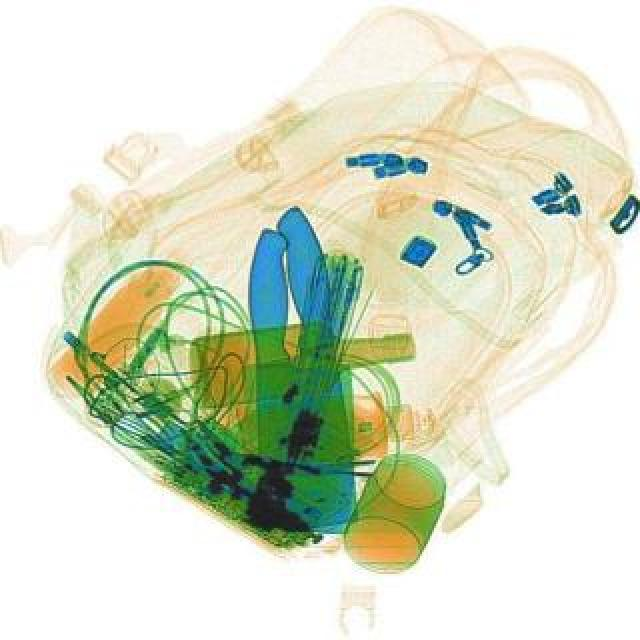knife: (214, 200, 358, 532), (244, 228, 356, 532)
